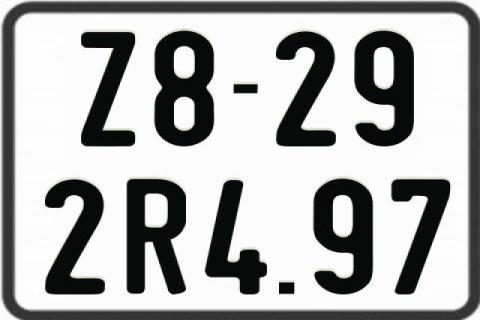0: (388, 178, 453, 298), (276, 31, 342, 149), (151, 29, 215, 147), (352, 30, 416, 148), (44, 177, 109, 292), (203, 180, 267, 296), (310, 178, 372, 296)
R: (126, 178, 189, 294)
Z: (78, 30, 132, 150)
